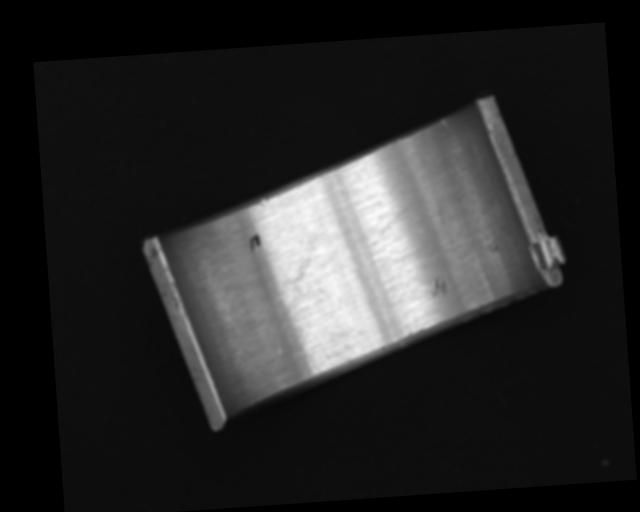blot: (276, 253, 322, 306), (248, 231, 261, 253)
bruise: (430, 277, 448, 299), (259, 197, 268, 206)
nick: (366, 202, 420, 248), (440, 117, 451, 130)
